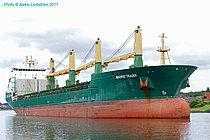Ship: (4, 23, 202, 126)
